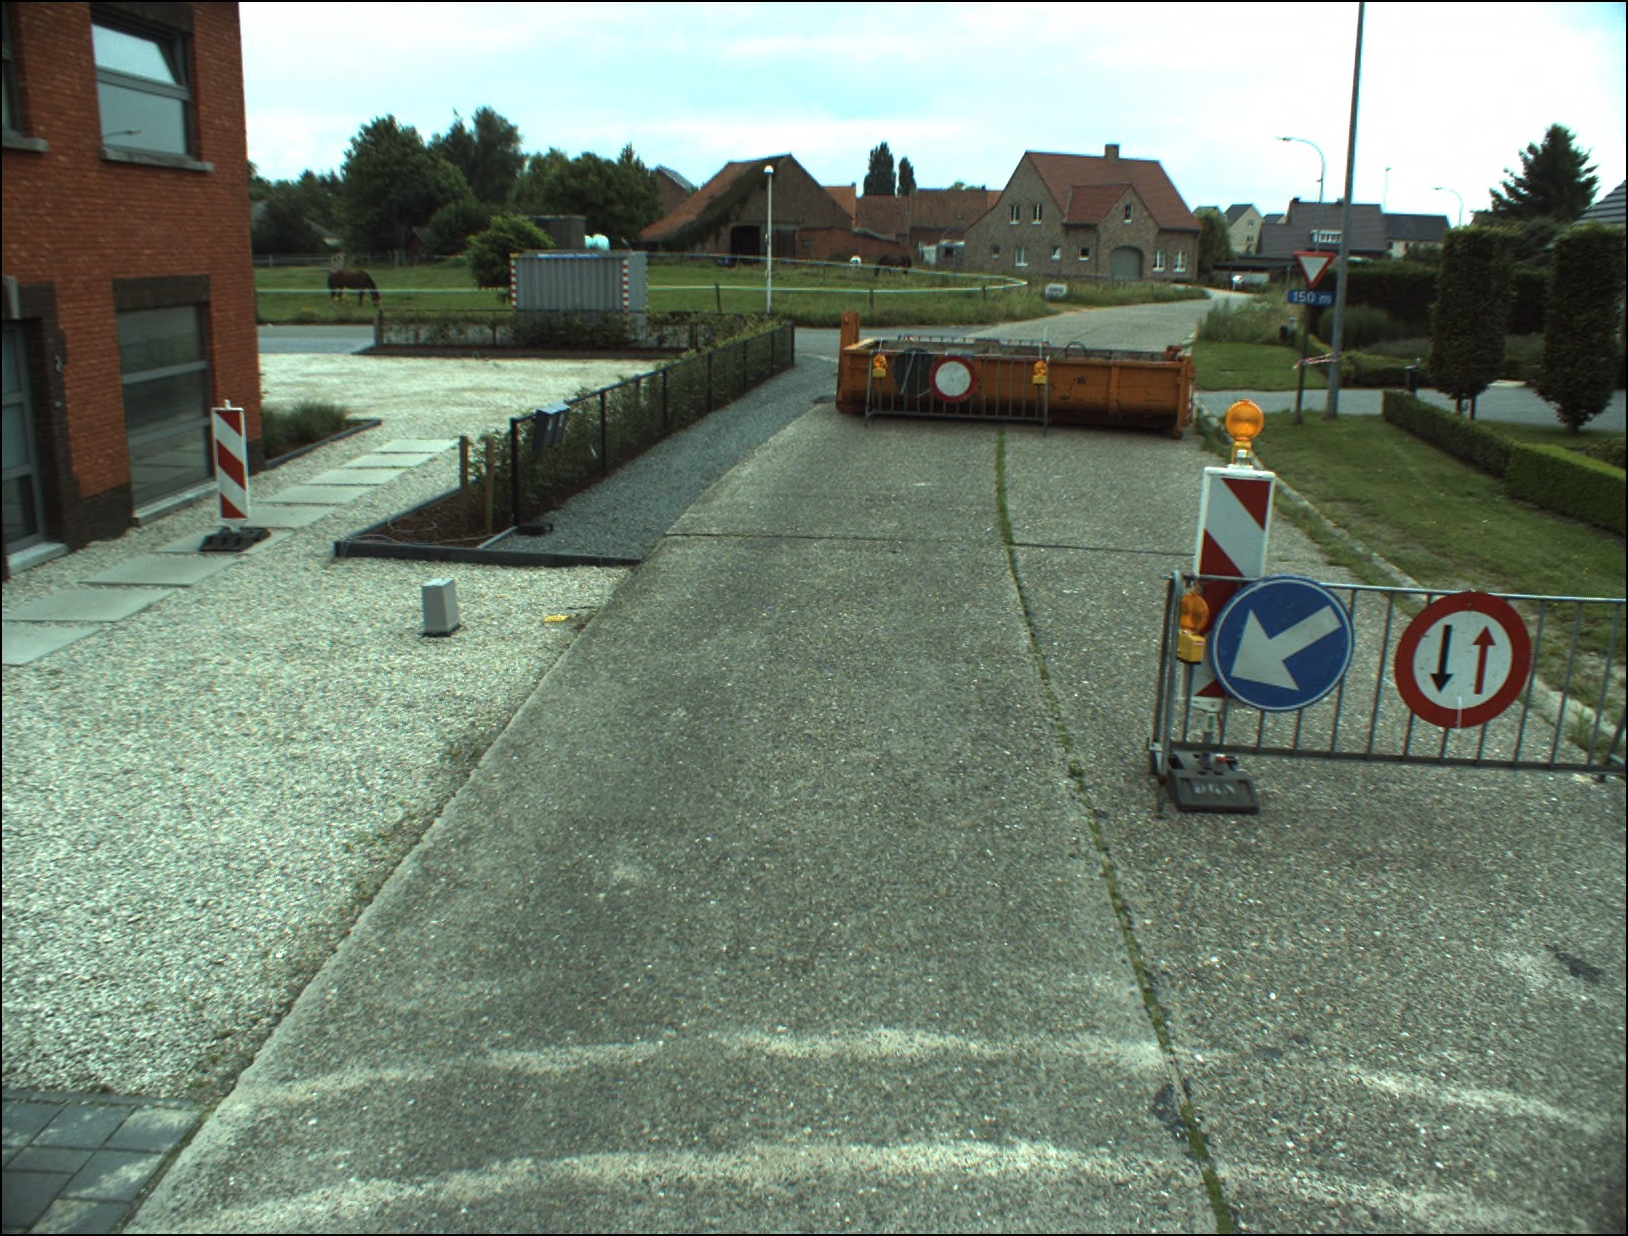forbidden: (930, 358, 974, 400)
passleft: (1211, 575, 1349, 711)
roadnarrow2: (1393, 595, 1531, 727)
